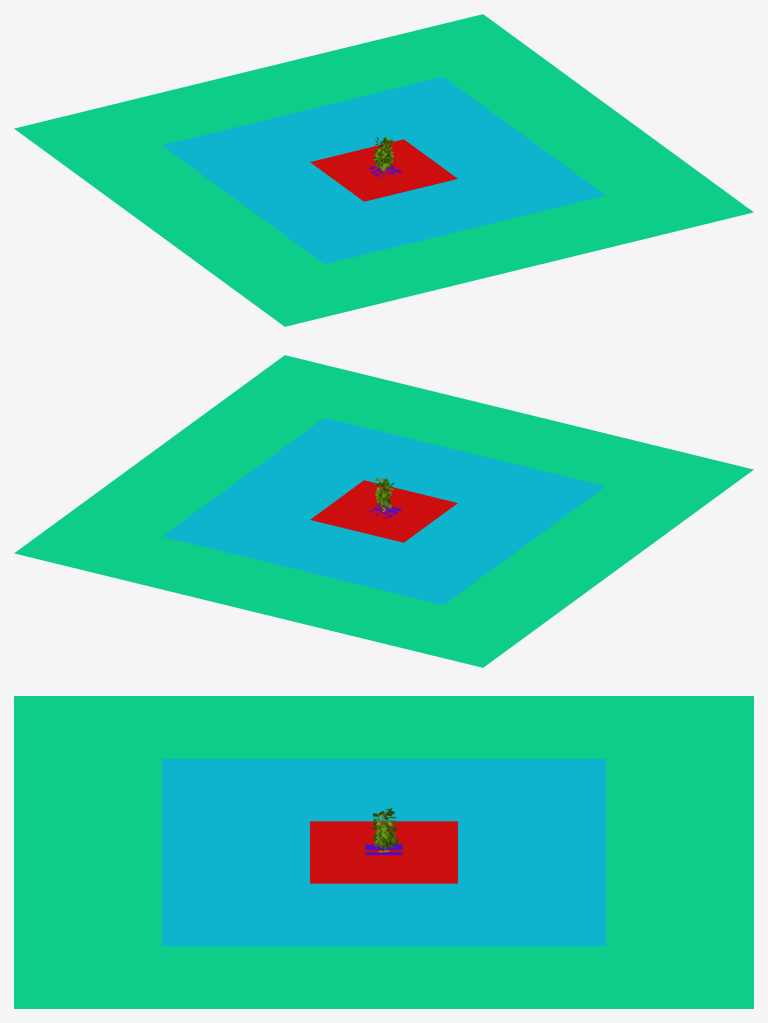
File: nk_world.glb
The picture shows the model from 3 angles, top to bottom: view 1: azimuth 30°, elevation 25°; view 2: azimuth 150°, elevation 25°; view 3: azimuth 270°, elevation 25°; orthographic projection. The views are drawn at different scales.
Visible parts, largest first — view 1: terrain-BigMountains, terrain-Mountains, terrain-Terrain; view 2: terrain-BigMountains, terrain-Mountains, terrain-Terrain; view 3: terrain-BigMountains, terrain-Mountains, terrain-Terrain, tree4-leaf.
Boxes of the visible parts, bbox=[...] form: terrain-BigMountains: bbox=[14, 14, 753, 326]; terrain-Mountains: bbox=[162, 76, 605, 264]; terrain-Terrain: bbox=[310, 139, 457, 201]; terrain-BigMountains: bbox=[14, 355, 753, 667]; terrain-Mountains: bbox=[162, 417, 605, 605]; terrain-Terrain: bbox=[310, 480, 457, 542]; terrain-BigMountains: bbox=[14, 696, 753, 1008]; terrain-Mountains: bbox=[162, 758, 605, 946]; terrain-Terrain: bbox=[310, 821, 457, 883]; tree4-leaf: bbox=[372, 807, 398, 850].
Bounding box in the file's own units: 10000 × 708 × 10000.
